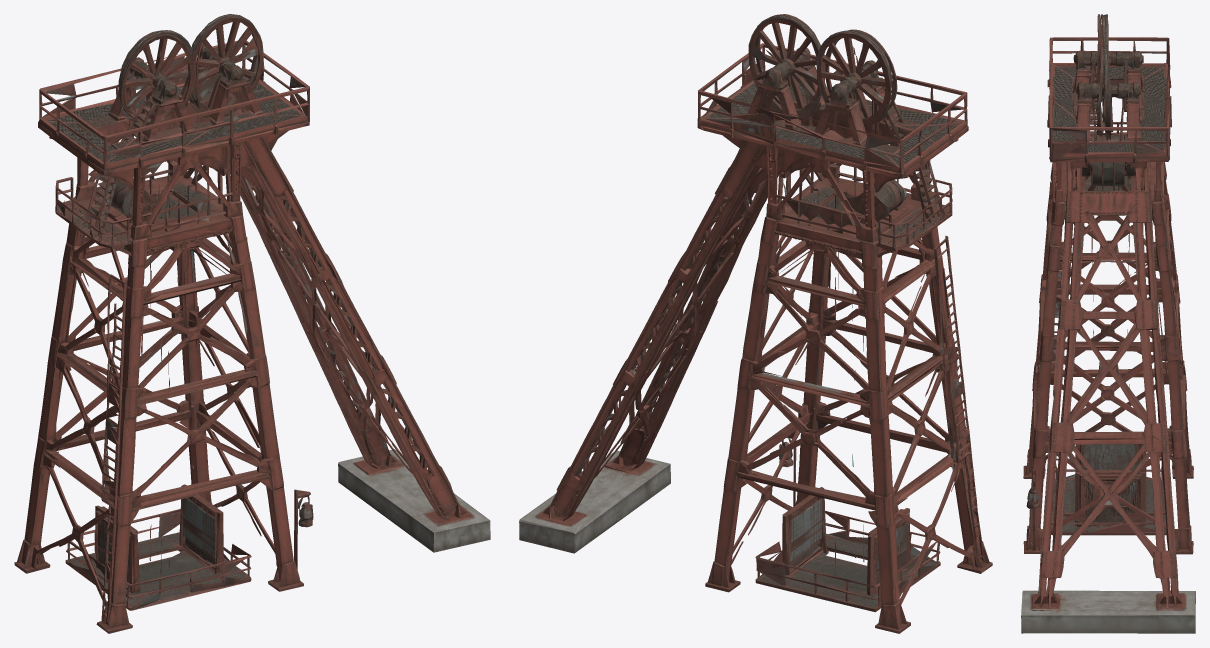
The model's file is lattice_headframe_strut.glb.
The picture shows the model from 3 angles, left to right: view 1: azimuth 30°, elevation 25°; view 2: azimuth 150°, elevation 25°; view 3: azimuth 270°, elevation 25°; orthographic projection. The views are drawn at different scales.
Bounding box in the file's own units: 1.39 × 1.9 × 0.6121.
1 material, 1 textured.
